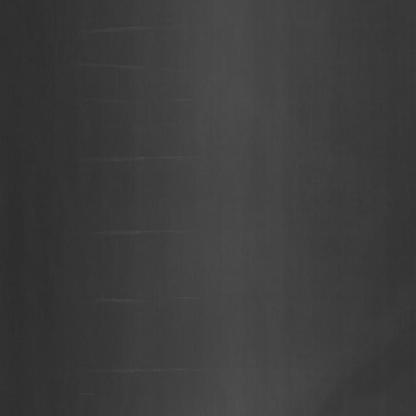waist_folding: (66, 26, 192, 380)
